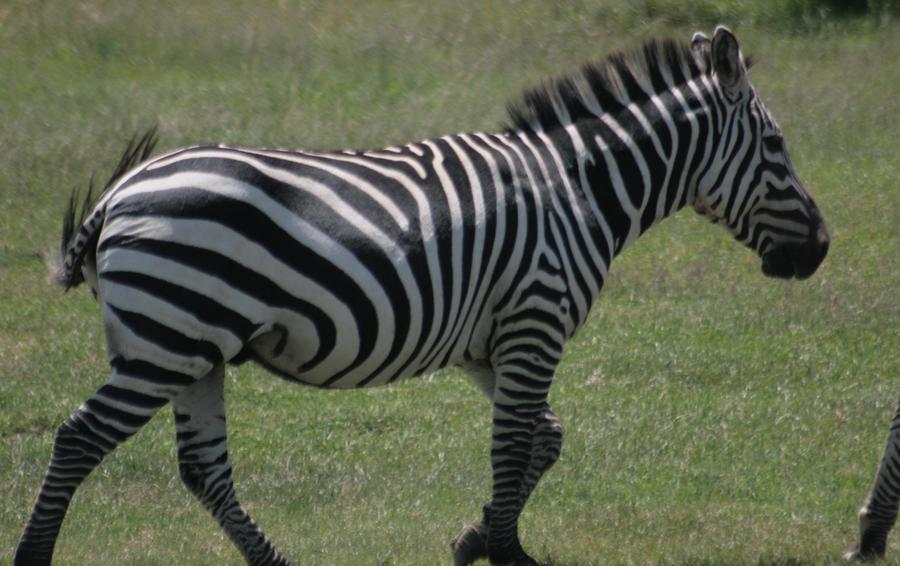zebra_plains: (110, 132, 581, 392)
